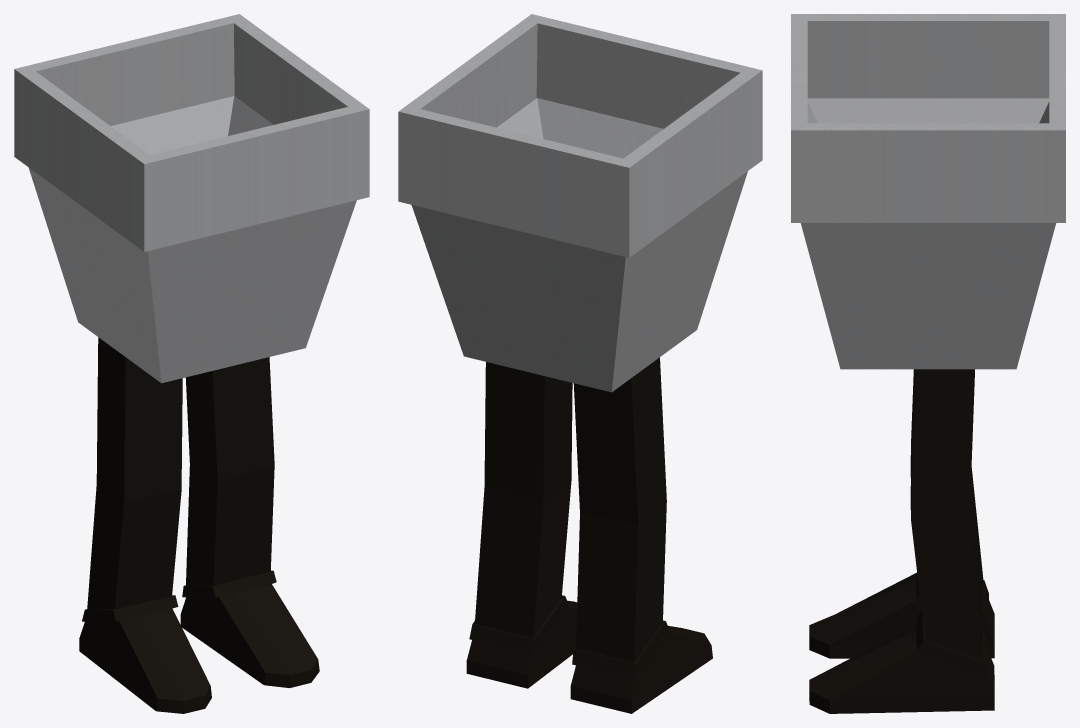
Rendered from TrashCanMan.fbx.
The picture shows the model from 3 angles, left to right: view 1: azimuth 30°, elevation 25°; view 2: azimuth 150°, elevation 25°; view 3: azimuth 270°, elevation 25°; orthographic projection. The views are drawn at different scales.
Visible parts, largest first — view 1: Cube, Cube.002, Cube.001; view 2: Cube, Cube.002, Cube.001; view 3: Cube, Cube.001, Cube.002.
Part boxes in pixels (x1=…): Cube: x1=14, y1=14, x2=369, y2=383; Cube.002: x1=79, y1=337, x2=211, y2=713; Cube.001: x1=180, y1=357, x2=319, y2=688; Cube: x1=398, y1=14, x2=762, y2=392; Cube.002: x1=570, y1=357, x2=712, y2=713; Cube.001: x1=466, y1=362, x2=577, y2=688; Cube: x1=791, y1=14, x2=1065, y2=369; Cube.001: x1=809, y1=369, x2=994, y2=713; Cube.002: x1=809, y1=369, x2=994, y2=658.
Size of the model in its own units: 173 by 416 by 173.
